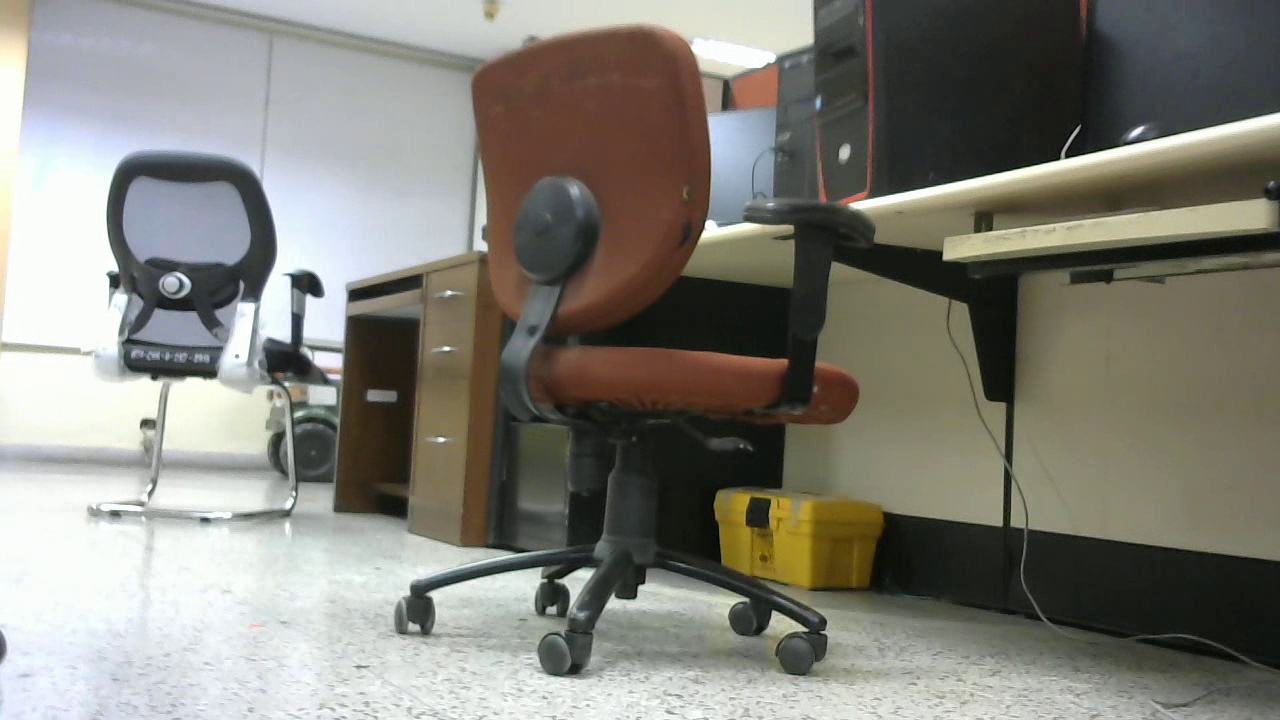chair: (399, 19, 872, 684), (94, 141, 331, 533)
